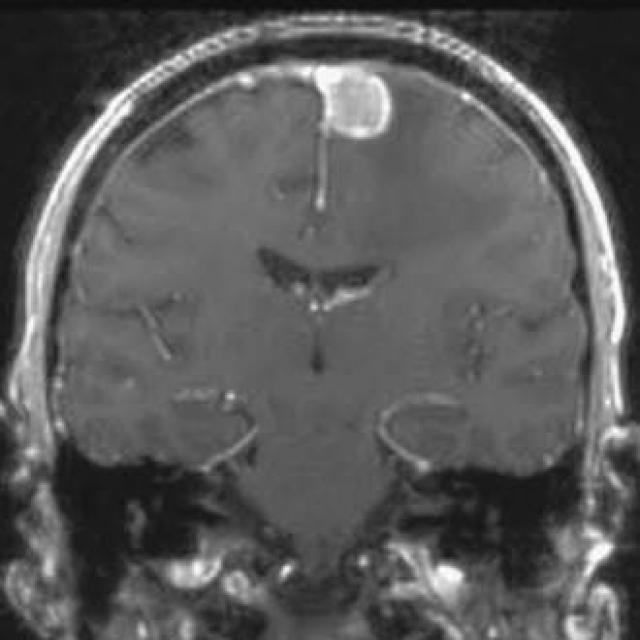Tumor: (314, 65, 394, 140)
